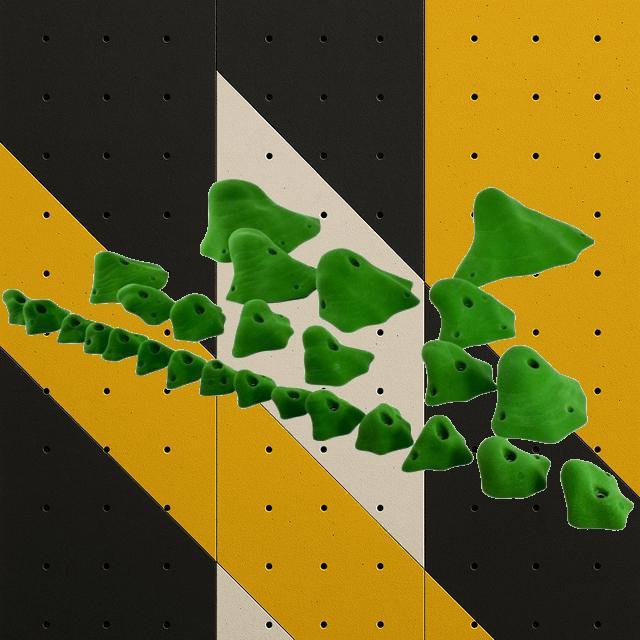Jug: (452, 186, 594, 288), (200, 178, 320, 262), (491, 344, 587, 444), (316, 246, 420, 334), (224, 229, 314, 305), (430, 278, 516, 348), (560, 458, 634, 530), (422, 340, 496, 406), (302, 325, 374, 387), (477, 438, 549, 498), (401, 415, 473, 473), (89, 252, 169, 304), (232, 300, 294, 358), (355, 404, 413, 456), (306, 390, 364, 440), (170, 293, 226, 341), (116, 284, 176, 328), (22, 299, 70, 335), (235, 368, 278, 408), (166, 349, 208, 389), (102, 328, 148, 362), (136, 340, 176, 376), (200, 360, 238, 396), (272, 386, 312, 420), (58, 314, 94, 344), (84, 323, 116, 355), (2, 290, 30, 324)
